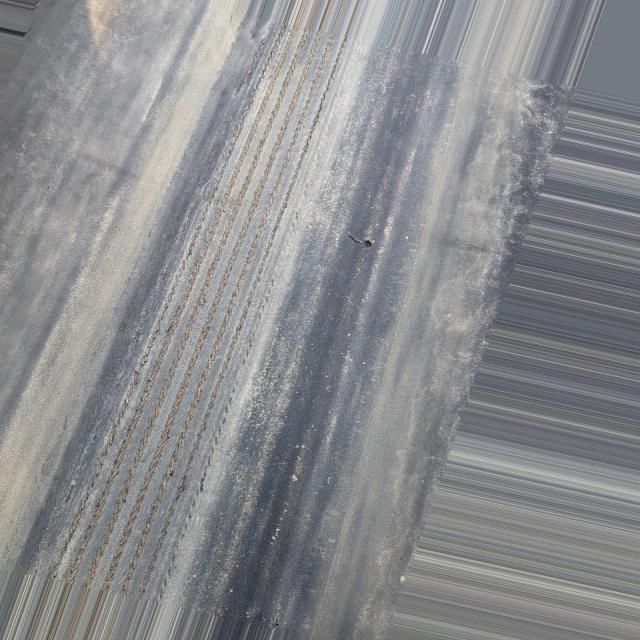impact damage: (0, 0, 359, 638)
